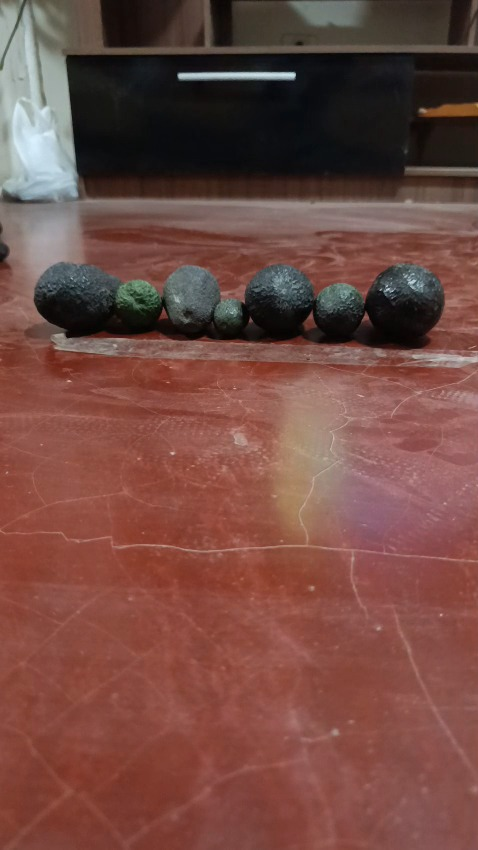Primera: (364, 261, 445, 341), (33, 261, 118, 334), (244, 263, 316, 336), (161, 263, 221, 335)
Segunda: (313, 282, 366, 339), (112, 278, 161, 333)
Tercera: (211, 298, 247, 338)
